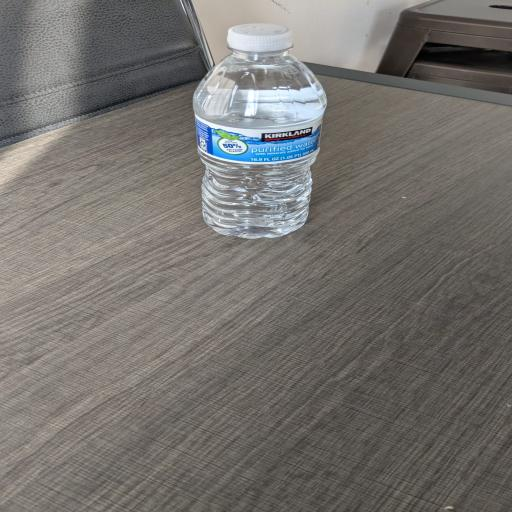waterbottle: (194, 24, 326, 237)
